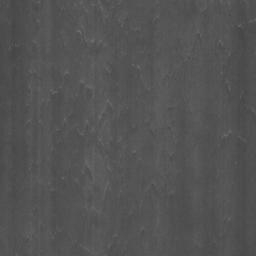Silk spot: (0, 0, 256, 256), (104, 192, 143, 256), (8, 232, 37, 256), (204, 208, 217, 254), (80, 211, 98, 235), (236, 216, 245, 256), (206, 168, 216, 194)
